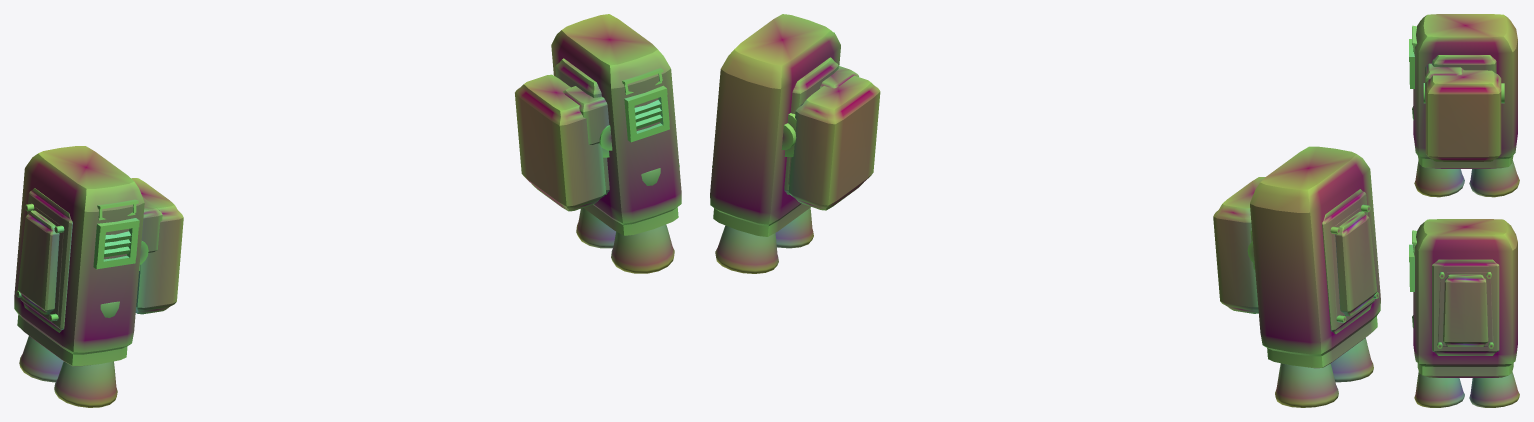
File: llm_gen_leg_thrusters_100_6b4f34.glb
3 renders of one model, left to right at view 1: azimuth 30°, elevation 25°; view 2: azimuth 150°, elevation 25°; view 3: azimuth 270°, elevation 25°, orthographic. The views are drawn at different scales.
Visible parts, largest first — view 1: hover_cowling_armor_1_titanium_silver_l, hover_cowling_armor_1_titanium_silver_r, adapter_calf_clamp_r, hover_flank_panel_5_wing_white_l, adapter_calf_clamp_l, hover_bell_fwd_7_vernier_bell_vernier_l, hover_bell_fwd_7_vernier_bell_vernier_r, adapter_sub_hover_flank_dark_4_adapter_dark_l, adapter_sub_hover_manifold_dark_6_adapter_dark_l, adapter_sub_hover_intake_grille_2_dark_r, adapter_sub_hover_intake_grille_2_dark_l, hover_bell_aft_8_vernier_bell_vernier_l (+5 smaller); view 2: hover_cowling_armor_1_titanium_silver_l, hover_cowling_armor_1_titanium_silver_r, adapter_calf_clamp_r, adapter_calf_clamp_l, hover_flank_panel_5_wing_white_l, hover_bell_aft_8_vernier_bell_vernier_l, hover_bell_aft_8_vernier_bell_vernier_r, adapter_sub_hover_flank_dark_4_adapter_dark_l, adapter_sub_hover_manifold_dark_6_adapter_dark_l, hover_bell_fwd_7_vernier_bell_vernier_l, hover_core_mount_0_adapter_dark_r, adapter_sub_hover_manifold_dark_6_adapter_dark_r (+1 smaller); view 3: hover_cowling_armor_1_titanium_silver_r, hover_cowling_armor_1_titanium_silver_l, adapter_calf_clamp_l, hover_flank_panel_5_wing_white_r, adapter_sub_hover_flank_dark_4_adapter_dark_r, hover_bell_aft_8_vernier_bell_vernier_r, hover_bell_fwd_7_vernier_bell_vernier_r, hover_bell_aft_8_vernier_bell_vernier_l, hover_bell_fwd_7_vernier_bell_vernier_l, adapter_sub_hover_manifold_dark_6_adapter_dark_r, hover_core_mount_0_adapter_dark_l, adapter_sub_hover_manifold_dark_6_adapter_dark_l (+4 smaller).
Part boxes in pixels (x1,y1,x2,y2): hover_cowling_armor_1_titanium_silver_l: (14, 146, 144, 354); hover_cowling_armor_1_titanium_silver_r: (551, 14, 681, 225); adapter_calf_clamp_r: (515, 74, 609, 211); hover_flank_panel_5_wing_white_l: (16, 203, 64, 321); adapter_calf_clamp_l: (131, 178, 183, 314); hover_bell_fwd_7_vernier_bell_vernier_l: (54, 361, 117, 407); hover_bell_fwd_7_vernier_bell_vernier_r: (611, 224, 674, 273); adapter_sub_hover_flank_dark_4_adapter_dark_l: (20, 188, 72, 332); adapter_sub_hover_manifold_dark_6_adapter_dark_l: (17, 314, 127, 366); adapter_sub_hover_intake_grille_2_dark_r: (624, 85, 669, 142); adapter_sub_hover_intake_grille_2_dark_l: (93, 218, 139, 269); hover_bell_aft_8_vernier_bell_vernier_l: (19, 336, 63, 382); hover_cowling_armor_1_titanium_silver_l: (1250, 146, 1380, 356); hover_cowling_armor_1_titanium_silver_r: (710, 14, 840, 226); adapter_calf_clamp_r: (784, 75, 880, 210); adapter_calf_clamp_l: (1213, 177, 1265, 313); hover_flank_panel_5_wing_white_l: (1330, 204, 1378, 322); hover_bell_aft_8_vernier_bell_vernier_l: (1275, 363, 1338, 407); hover_bell_aft_8_vernier_bell_vernier_r: (715, 225, 778, 273); adapter_sub_hover_flank_dark_4_adapter_dark_l: (1322, 189, 1374, 334); adapter_sub_hover_manifold_dark_6_adapter_dark_l: (1267, 316, 1377, 368); hover_bell_fwd_7_vernier_bell_vernier_l: (1331, 338, 1373, 382); hover_core_mount_0_adapter_dark_r: (784, 57, 838, 194); adapter_sub_hover_manifold_dark_6_adapter_dark_r: (713, 204, 810, 236); hover_cowling_armor_1_titanium_silver_r: (1413, 219, 1517, 366); hover_cowling_armor_1_titanium_silver_l: (1413, 14, 1517, 159); adapter_calf_clamp_l: (1425, 70, 1501, 161); hover_flank_panel_5_wing_white_r: (1437, 272, 1493, 348); adapter_sub_hover_flank_dark_4_adapter_dark_r: (1432, 259, 1499, 355); hover_bell_aft_8_vernier_bell_vernier_r: (1469, 372, 1519, 407); hover_bell_fwd_7_vernier_bell_vernier_r: (1414, 372, 1464, 407); hover_bell_aft_8_vernier_bell_vernier_l: (1469, 160, 1519, 197); hover_bell_fwd_7_vernier_bell_vernier_l: (1414, 160, 1464, 197); adapter_sub_hover_manifold_dark_6_adapter_dark_r: (1417, 363, 1513, 377); hover_core_mount_0_adapter_dark_l: (1432, 55, 1496, 73); adapter_sub_hover_manifold_dark_6_adapter_dark_l: (1417, 155, 1513, 168).
Bounding box in the file's own units: 84.06 × 27.38 × 16.15.
